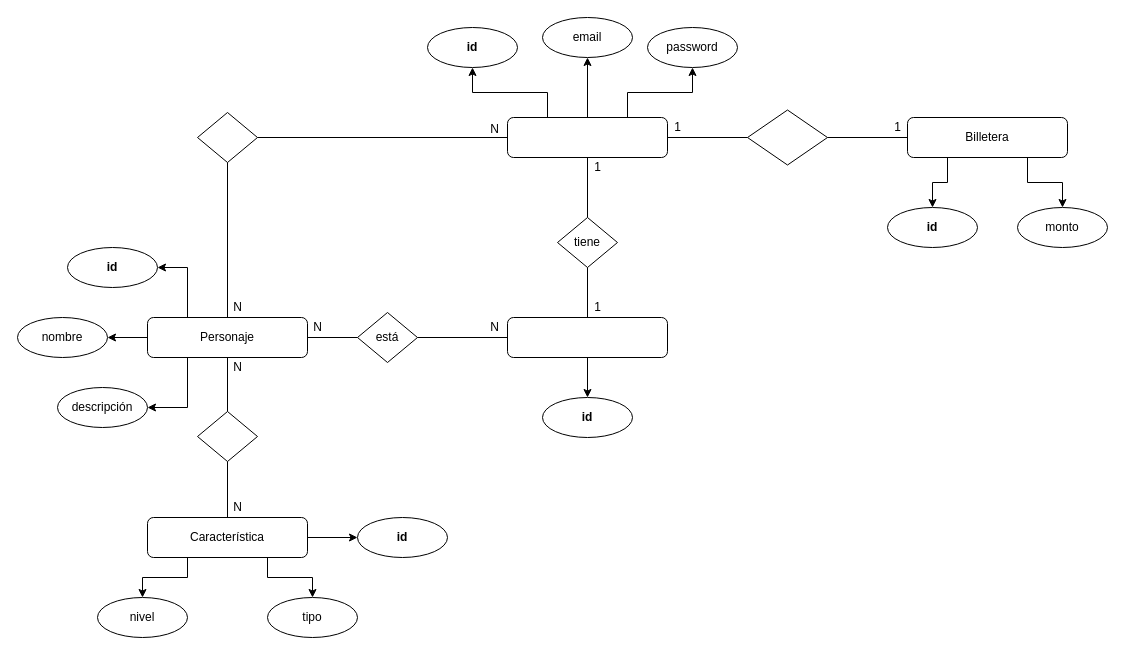
This 1125x655 diagram has some shape labels left out. Each missing label, with the box of its shape:
Coleccion: (506, 316, 668, 358)
comprar: (196, 112, 258, 162)
posee: (196, 410, 258, 462)
tiene_una: (746, 109, 828, 165)
Usuario: (506, 116, 668, 158)
